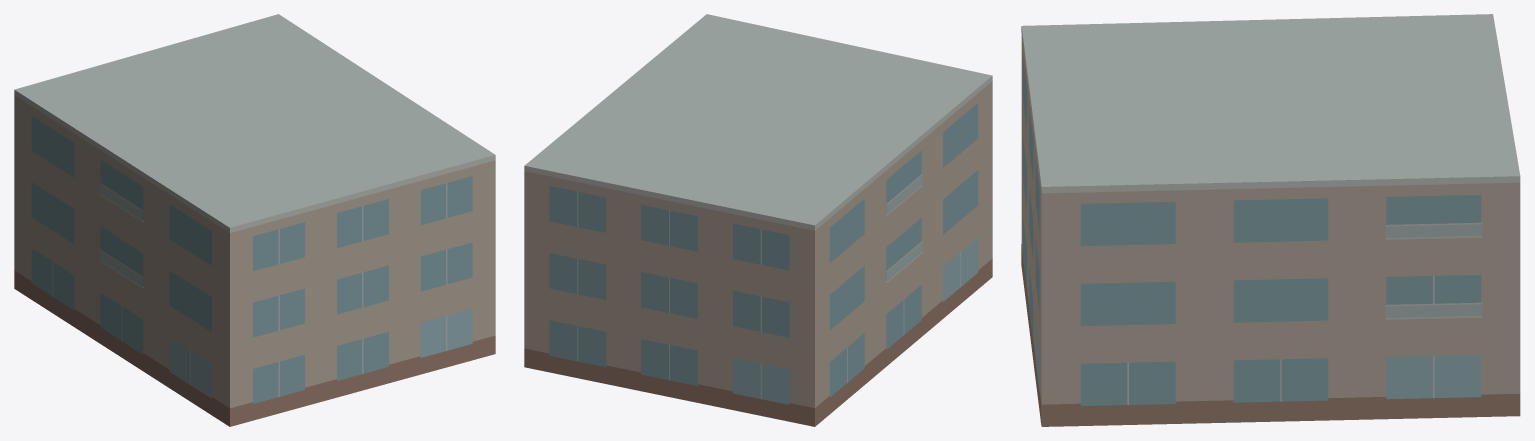
File: survey-upis-32885909.glb
3 views of the same model, side by side, from view 1: azimuth 30°, elevation 25°; view 2: azimuth 150°, elevation 25°; view 3: azimuth 270°, elevation 25° (orthographic). The views are drawn at different scales.
Parts seen in each view (by area): view 1: survey-upis-32885909.tmp; view 2: survey-upis-32885909.tmp; view 3: survey-upis-32885909.tmp.
Boxes of the visible parts, x1,y1,x2,y2 form: survey-upis-32885909.tmp: [14, 14, 495, 426]; survey-upis-32885909.tmp: [524, 14, 992, 426]; survey-upis-32885909.tmp: [1021, 14, 1520, 426].
Size of the model in its own units: 14.16 by 9.15 by 17.26.
